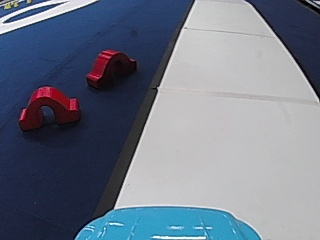bridge: (16, 81, 82, 131), (84, 46, 137, 91)
